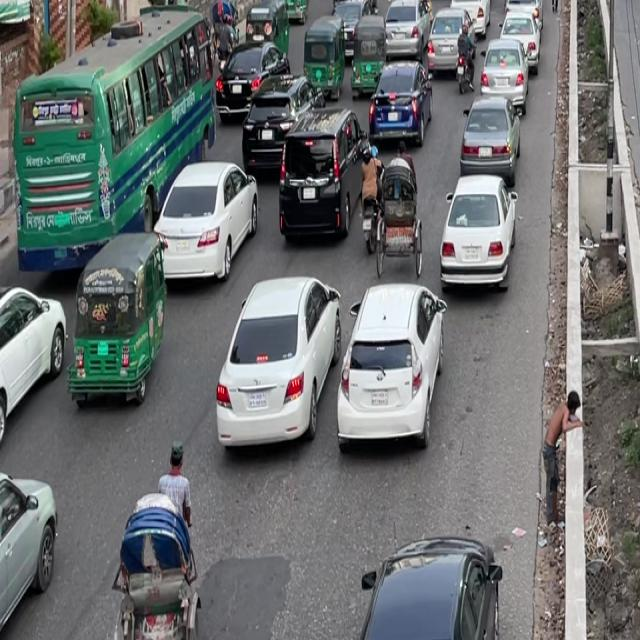car: (201, 260, 347, 464), (329, 270, 454, 463), (349, 514, 515, 634), (142, 144, 265, 300), (0, 273, 79, 454), (273, 104, 365, 254), (432, 165, 524, 306), (0, 456, 70, 640), (211, 47, 294, 129), (238, 76, 305, 176), (457, 87, 522, 188), (365, 59, 433, 153), (480, 34, 532, 112), (423, 7, 468, 86), (494, 1, 543, 70), (380, 0, 428, 61), (450, 0, 491, 40), (331, 0, 377, 28), (506, 0, 544, 4)
motorbike: (453, 24, 476, 94)
rickshaw: (57, 226, 172, 416), (298, 14, 344, 105), (348, 14, 387, 98), (245, 0, 290, 61), (270, 0, 312, 26), (429, 0, 458, 5)
